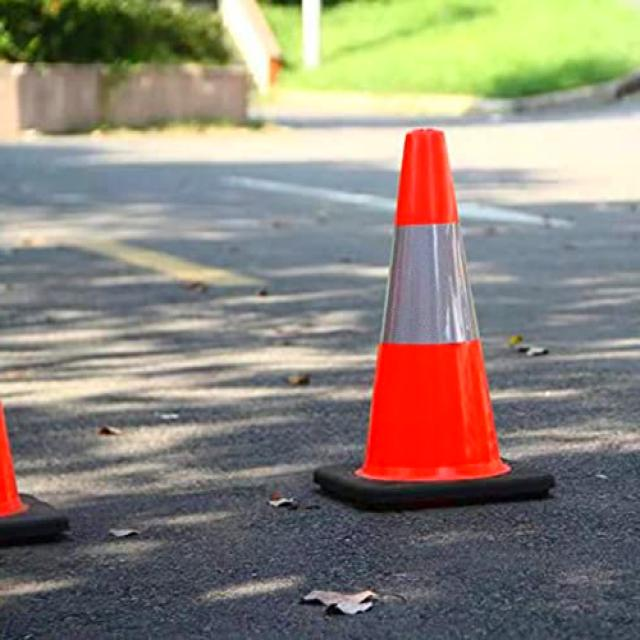cone: (303, 105, 569, 532)
